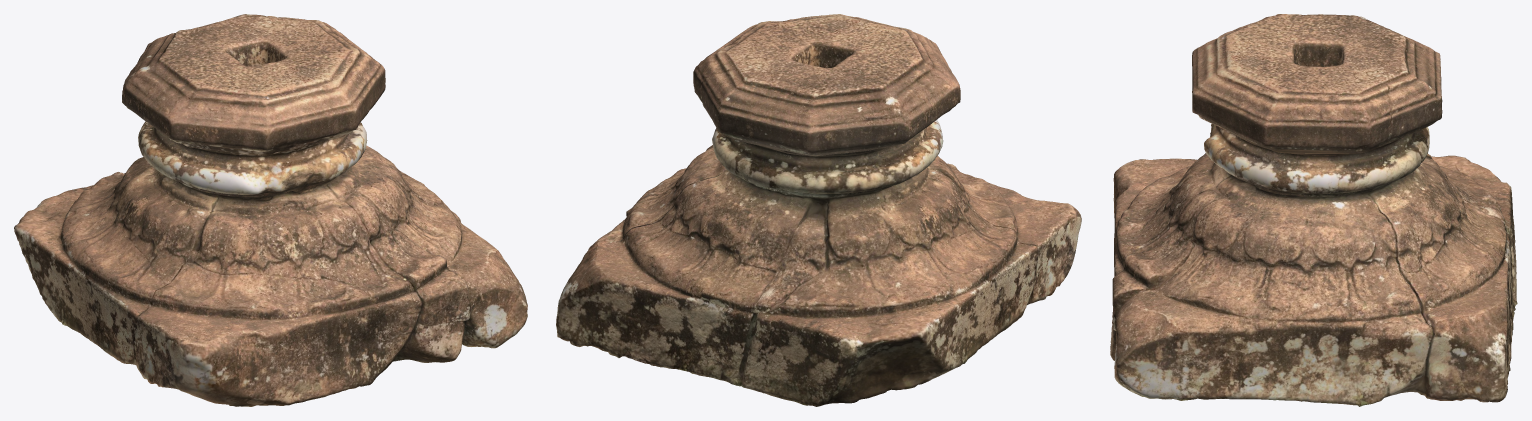
The model's file is 7_MysonSanctuaryB_Detru_final.glb.
3 views of the same model, side by side, from view 1: azimuth 30°, elevation 25°; view 2: azimuth 150°, elevation 25°; view 3: azimuth 270°, elevation 25° (orthographic).
Bounding box in the file's own units: 1.05 × 0.7543 × 1.04.
Materials: 1 (1 with a texture image).
